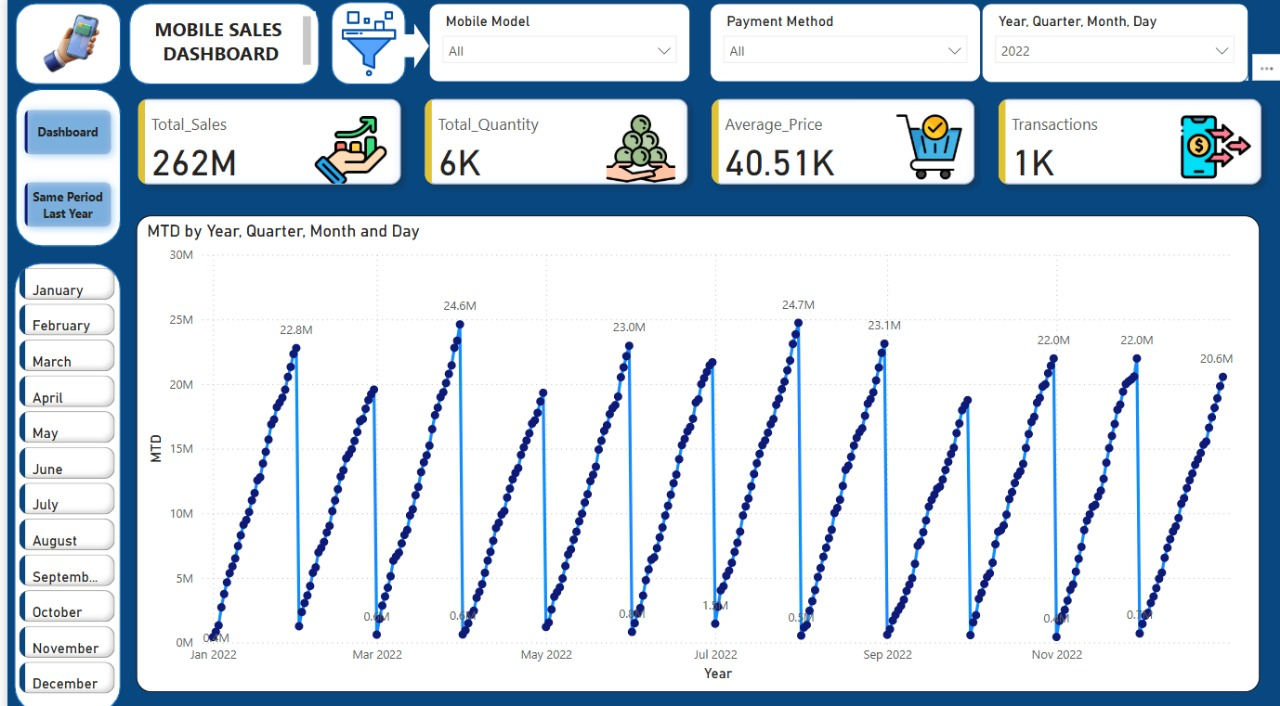

This screenshot's page, from the dashboard's own definition file:
{"tool":"powerbi","page":{"name":"MTD Report","canvas":[1279,720],"ordinal":1},"visuals":[{"type":"shape","box":[8.1,7,105.7,81.3],"z":0},{"type":"shape","box":[8.1,93,105.7,158],"z":1000},{"type":"cardVisual","fields":{"Data":["Mobile_Sales.Total_Sales","Mobile_Sales.Total_Quantity","Mobile_Sales.Average_Price","Mobile_Sales.Transactions"]},"box":[114.8,86.4,1164.4,120.7],"z":2000},{"type":"image","box":[0,7,129,81.3],"z":3000},{"type":"slicer","fields":{"Values":["Mobile_Sales.Mobile Model"]},"box":[423.7,7.1,262.7,79.3],"z":4000},{"type":"slicer","fields":{"Values":["Mobile_Sales.Payment Method"]},"box":[705.3,7.1,272.2,79.3],"z":5000},{"type":"slicer","fields":{"Values":["Custom Calender.Date.Variation.Date Hierarchy.Year","Custom Calender.Date.Variation.Date Hierarchy.Quarter","Custom Calender.Date.Variation.Date Hierarchy.Month","Custom Calender.Date.Variation.Date Hierarchy.Day"]},"box":[977.8,6.7,267.8,80],"z":6000},{"type":"shape","box":[325.4,5.9,74.6,82.8],"z":7000},{"type":"shape","box":[121.9,7.1,190.5,81.7],"z":8000},{"type":"image","box":[267.4,9.5,191.7,76.9],"z":9000},{"type":"lineChart","fields":{"Category":["Custom Calender.Date.Variation.Date Hierarchy.Year","Custom Calender.Date.Variation.Date Hierarchy.Quarter","Custom Calender.Date.Variation.Date Hierarchy.Month","Custom Calender.Date.Variation.Date Hierarchy.Day"],"Y":["Mobile_Sales.MTD"]},"box":[128.9,220,1127.8,478.9],"z":9500},{"type":"shape","box":[392.9,27.2,30.8,46.2],"z":10000},{"type":"textbox","box":[126.6,15.4,182.2,59.2],"z":11000},{"type":"shape","box":[6.7,267.8,106.7,452.2],"z":13000},{"type":"advancedSlicerVisual","fields":{"Values":["Custom Calender.Date.Variation.Date Hierarchy.Month"]},"box":[6.7,267.8,106.7,440],"z":14000},{"type":"pageNavigator","box":[7.8,104.4,105.6,136.7],"z":14001}]}

Visuals, with their boxes in screenshot pixels (x1, y1, x2, y2), scaled from the page's 1279x720 canvas onto the 1280x706 screenshot:
shape: Rect(8, 7, 114, 87)
shape: Rect(8, 91, 114, 246)
cardVisual - Mobile_Sales.Total_Sales x Mobile_Sales.Total_Quantity: Rect(115, 85, 1279, 203)
image: Rect(0, 7, 129, 87)
slicer - Mobile_Sales.Mobile Model: Rect(424, 7, 687, 85)
slicer - Mobile_Sales.Payment Method: Rect(706, 7, 978, 85)
slicer - Custom Calender.Date.Variation.Date Hierarchy.Year x Custom Calender.Date.Variation.Date Hierarchy.Quarter: Rect(979, 7, 1247, 85)
shape: Rect(326, 6, 400, 87)
shape: Rect(122, 7, 313, 87)
image: Rect(268, 9, 459, 85)
lineChart - Custom Calender.Date.Variation.Date Hierarchy.Year x Custom Calender.Date.Variation.Date Hierarchy.Quarter: Rect(129, 216, 1258, 685)
shape: Rect(393, 27, 424, 72)
textbox: Rect(127, 15, 309, 73)
shape: Rect(7, 263, 113, 705)
advancedSlicerVisual - Custom Calender.Date.Variation.Date Hierarchy.Month: Rect(7, 263, 113, 694)
pageNavigator: Rect(8, 102, 113, 236)
